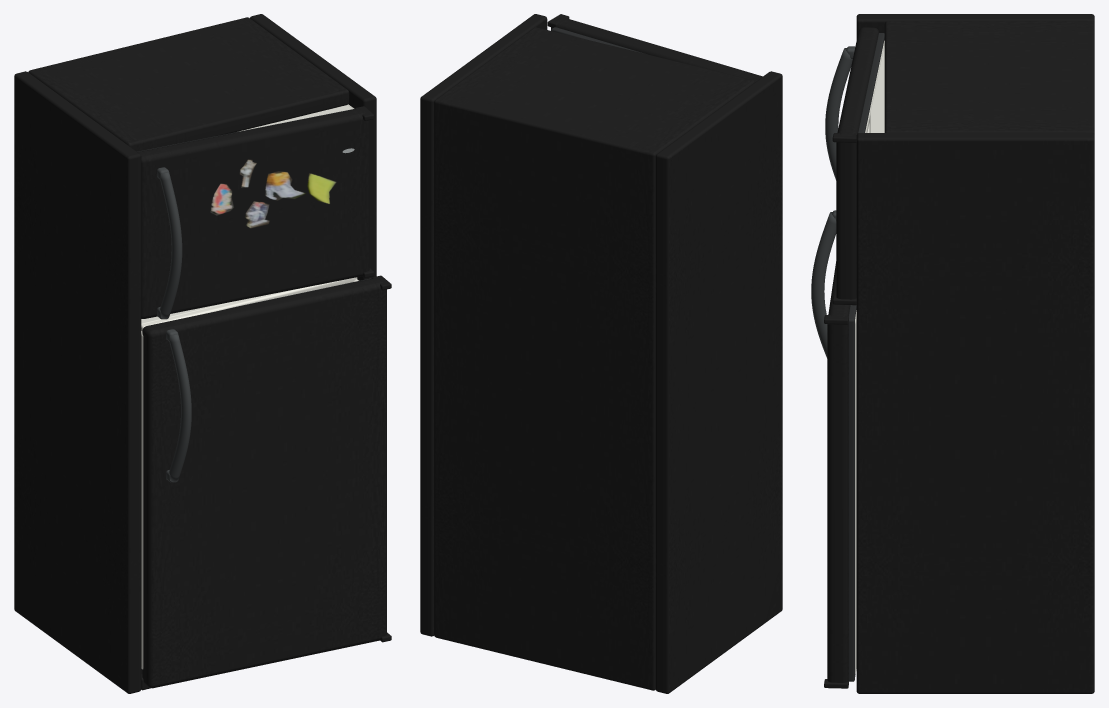
File: fridge__refrigerator.glb
3 views of the same model, side by side, from view 1: azimuth 30°, elevation 25°; view 2: azimuth 150°, elevation 25°; view 3: azimuth 270°, elevation 25° (orthographic). The views are drawn at different scales.
Parts seen in each view (by area): view 1: main_outer_skin, shell_left, freezer_outer_skin, shell_top, shell_right, magnet_decals, shell_back, main_bow_handle, freezer_bow_handle, liner_front_horizontal.001, liner_front_side; view 2: shell_back, shell_left, shell_top, shell_right, freezer_outer_skin; view 3: shell_right, shell_top, main_outer_skin, freezer_outer_skin, main_gasket_side.001, shell_back, shell_left, main_bow_handle, freezer_bow_handle, liner_ceiling, freezer_gasket_cross.001, main_door_liner.
Part boxes in pixels (<box>): main_outer_skin: <box>142,278,386,688</box>; shell_left: <box>14,71,141,693</box>; freezer_outer_skin: <box>137,108,369,318</box>; shell_top: <box>34,22,349,151</box>; shell_right: <box>250,14,376,280</box>; magnet_decals: <box>210,159,336,228</box>; shell_back: <box>28,17,256,76</box>; main_bow_handle: <box>169,334,191,482</box>; freezer_bow_handle: <box>160,172,182,319</box>; liner_front_horizontal.001: <box>141,277,355,330</box>; liner_front_side: <box>141,331,143,669</box>; shell_back: <box>434,93,663,690</box>; shell_left: <box>655,71,782,693</box>; shell_top: <box>444,27,754,149</box>; shell_right: <box>420,14,547,636</box>; freezer_outer_skin: <box>551,17,762,81</box>; shell_right: <box>856,133,1094,693</box>; shell_top: <box>884,21,1080,132</box>; main_outer_skin: <box>827,261,850,682</box>; freezer_outer_skin: <box>836,27,879,299</box>; main_gasket_side.001: <box>848,320,854,681</box>; shell_back: <box>1074,21,1094,134</box>; shell_left: <box>856,14,1094,39</box>; main_bow_handle: <box>811,212,836,358</box>; freezer_bow_handle: <box>825,48,852,180</box>; liner_ceiling: <box>869,46,884,132</box>; freezer_gasket_cross.001: <box>858,33,884,132</box>; main_door_liner: <box>855,310,856,673</box>.
Bounding box in the file's own units: 0.9 × 1.86 × 0.8571.
Materials: 12 (3 with a texture image).
